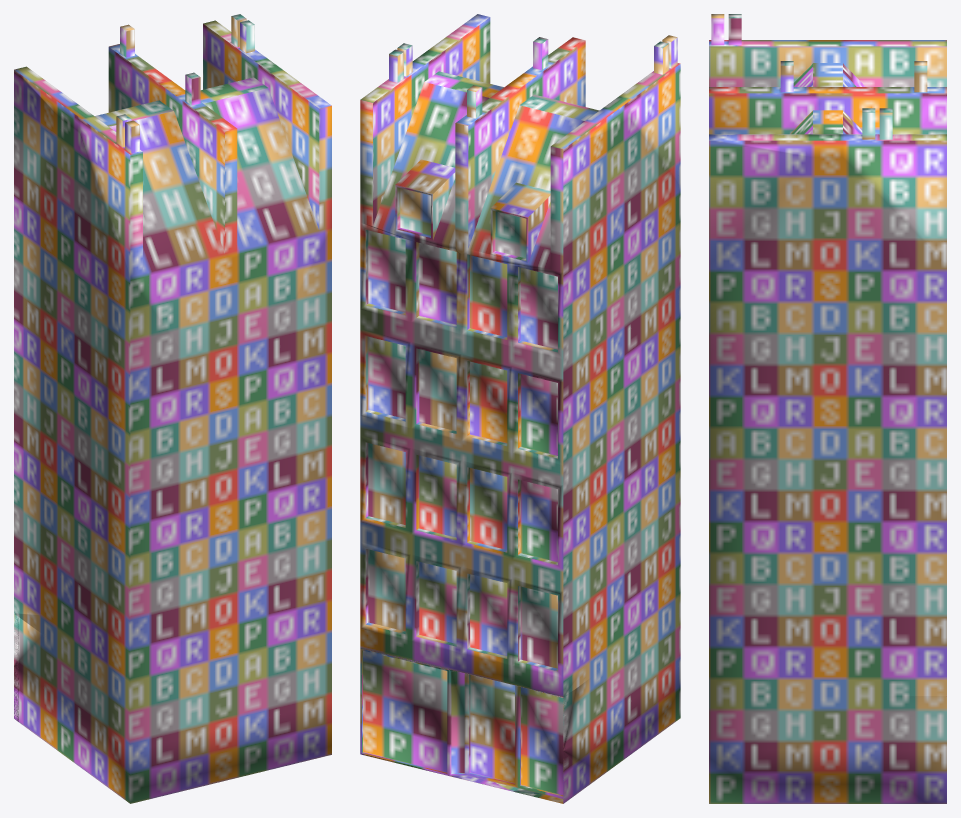
Rendered from building_side_02.obj.
3 renders of one model, left to right at view 1: azimuth 30°, elevation 25°; view 2: azimuth 150°, elevation 25°; view 3: azimuth 270°, elevation 25°, orthographic. The views are drawn at different scales.
Visible parts, largest first — view 1: Cube1; view 2: Cube1; view 3: Cube1.
Boxes of the visible parts, x1,y1,x2,y2 form: Cube1: (14, 14, 331, 803); Cube1: (360, 14, 680, 803); Cube1: (709, 14, 946, 803).
Bounding box in the file's own units: 8 × 25.63 × 8.
Materials: 1 (1 with a texture image).
